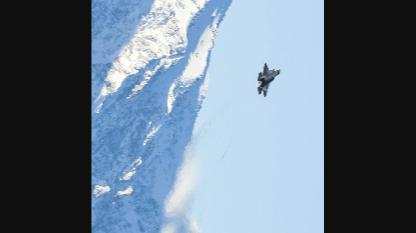F22: (258, 62, 281, 97)
